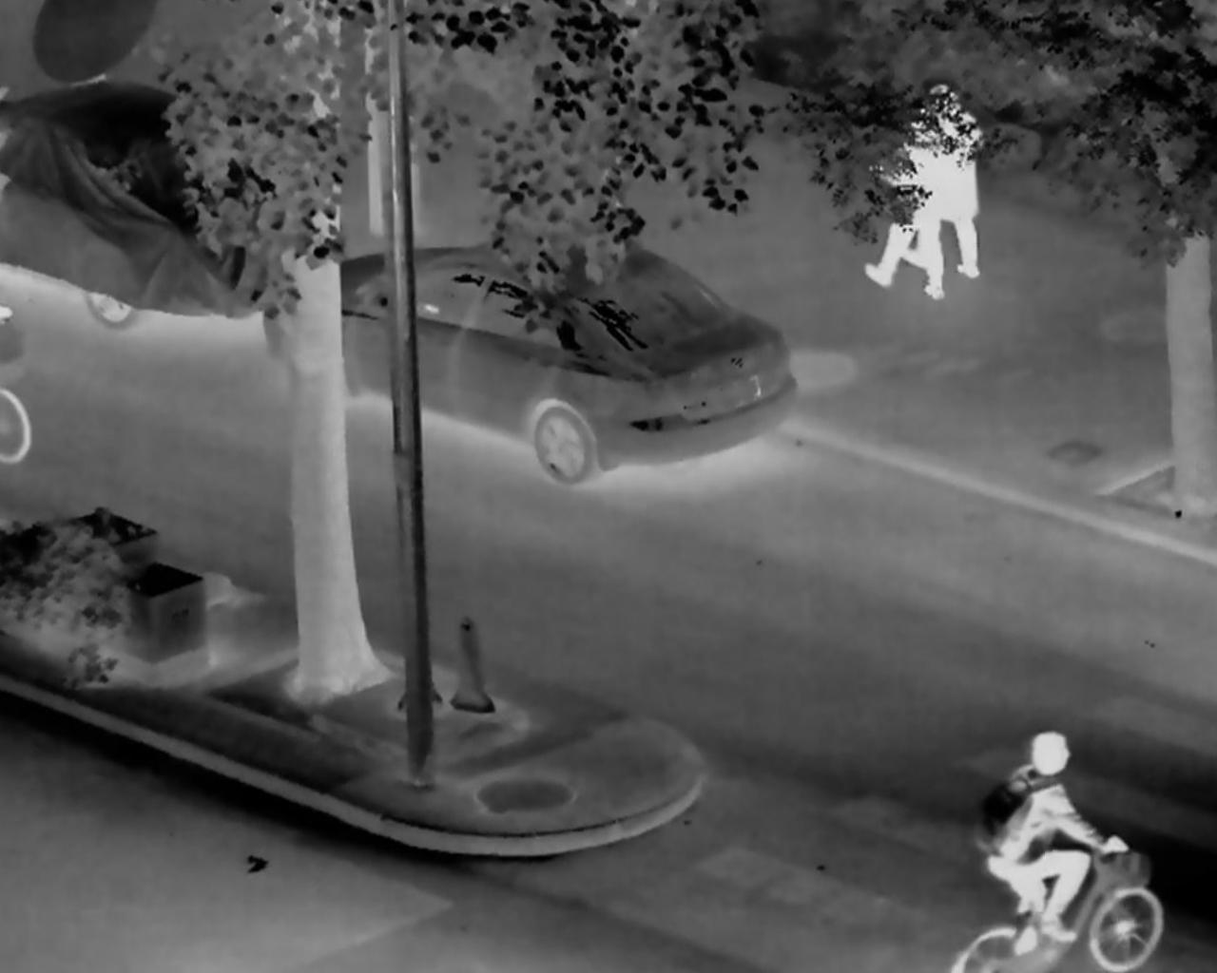person: (974, 731, 1130, 951), (898, 84, 980, 281), (867, 113, 947, 303)
